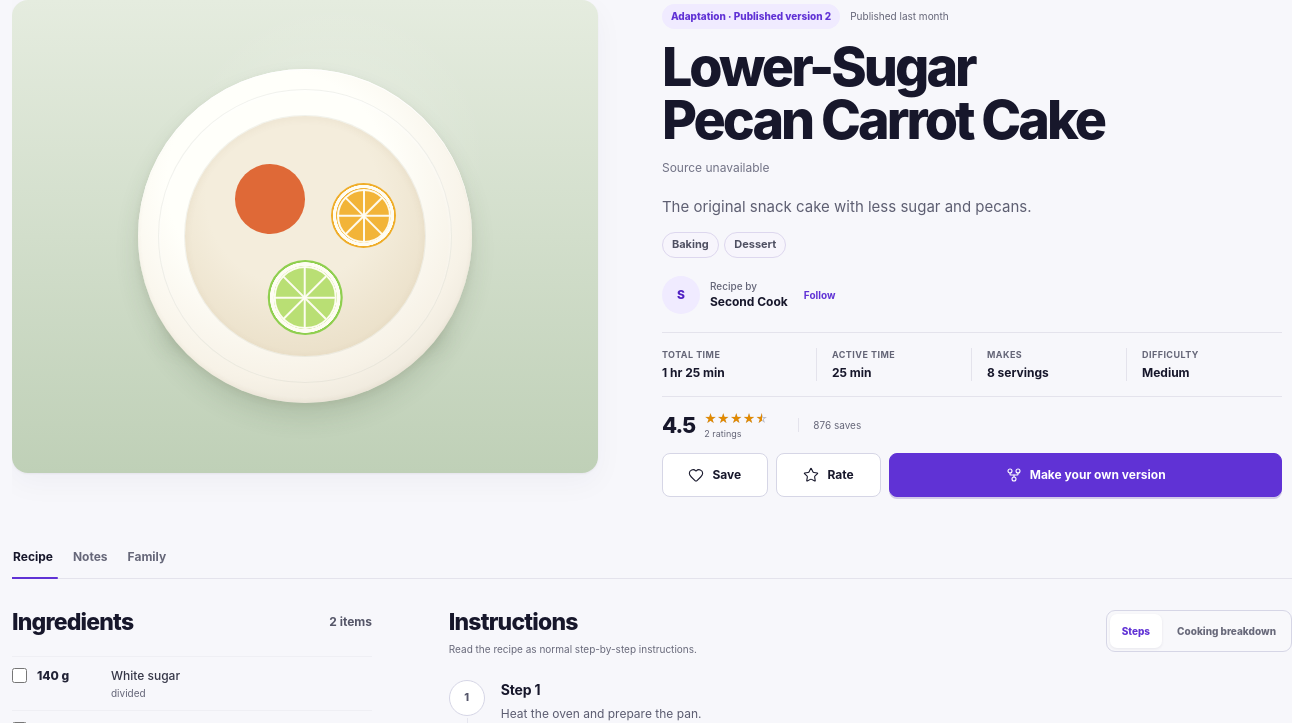
Test: RecipeDetailView › derives an adapted revision's unavailable source from readable history
Expected: the text "Adaptation · Published version 2" is shown, x1=662 y1=4 x2=840 y2=29
Expected: the text "Source unavailable" is shown, x1=662 y1=160 x2=769 y2=175
Click the tab "Family" at [147, 563], box x1=127 y1=548 x2=167 y2=578
(page scrolled)
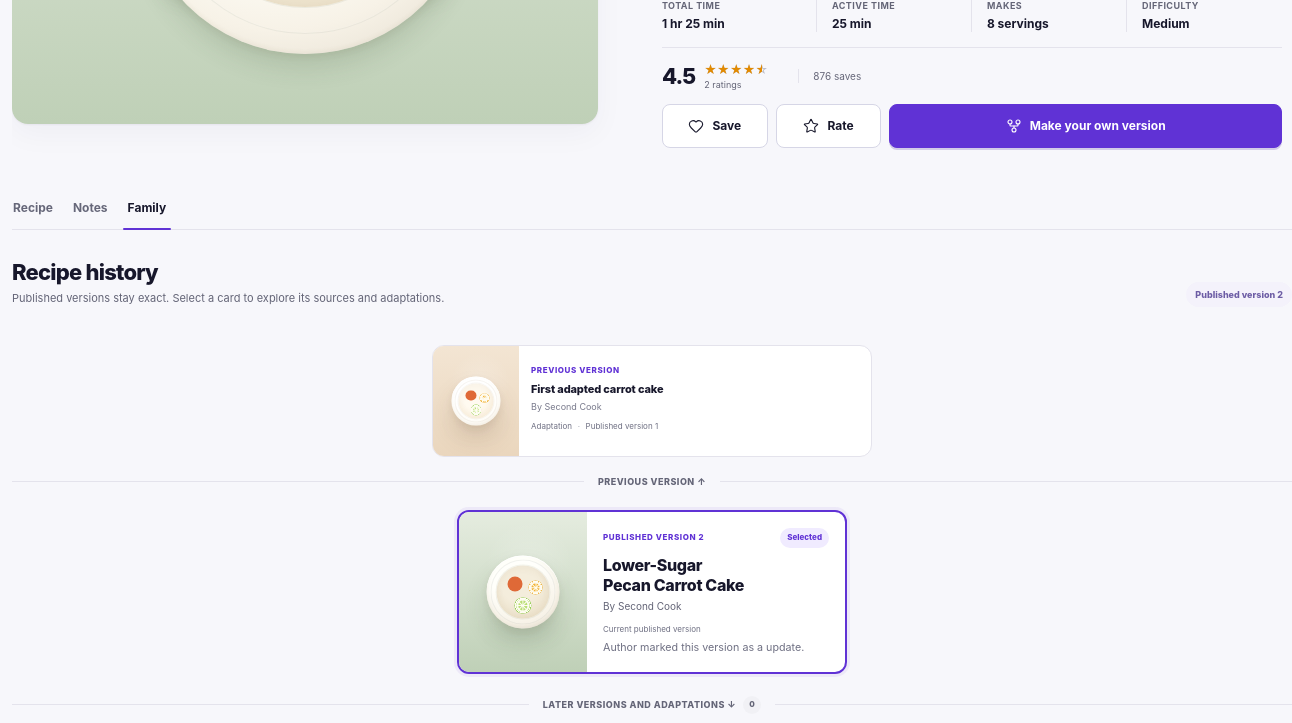
Click the button named "Show First adapted carrot cake in recipe history" at [652, 401], box x1=433 y1=346 x2=871 y2=456
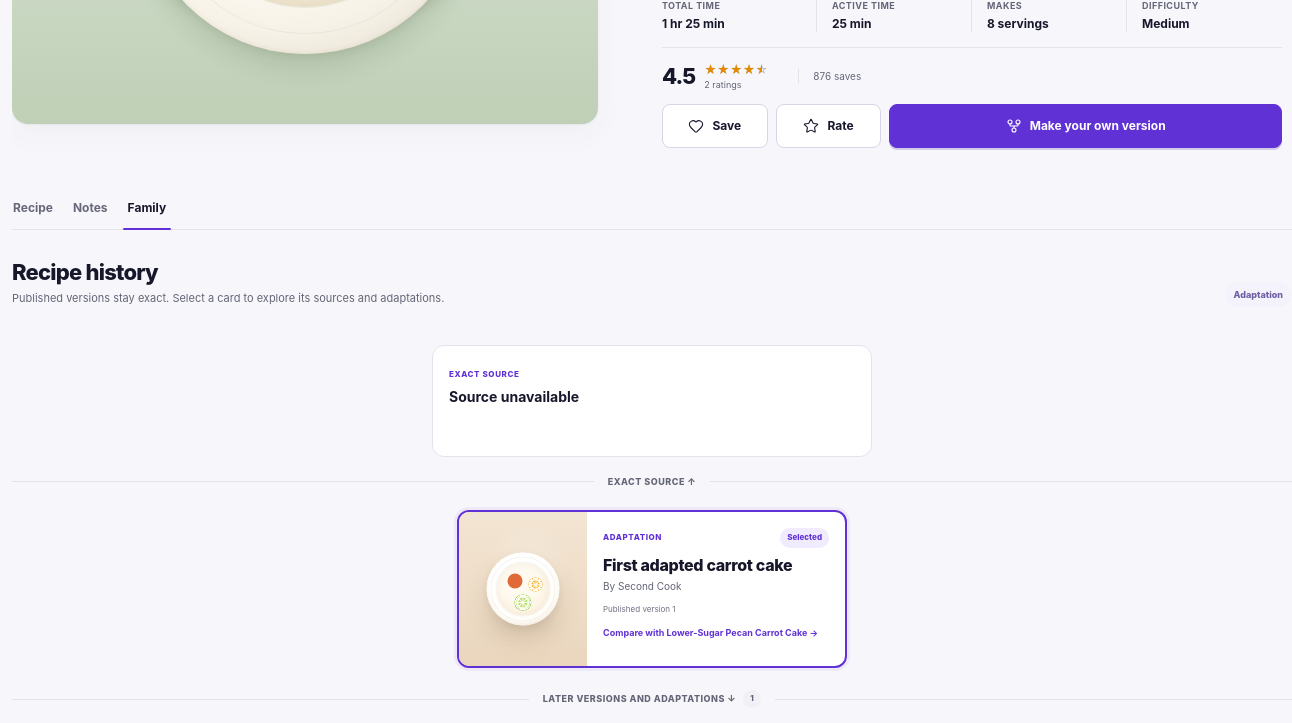
Expected: the heading "Source unavailable" is shown, x1=449 y1=388 x2=579 y2=405
